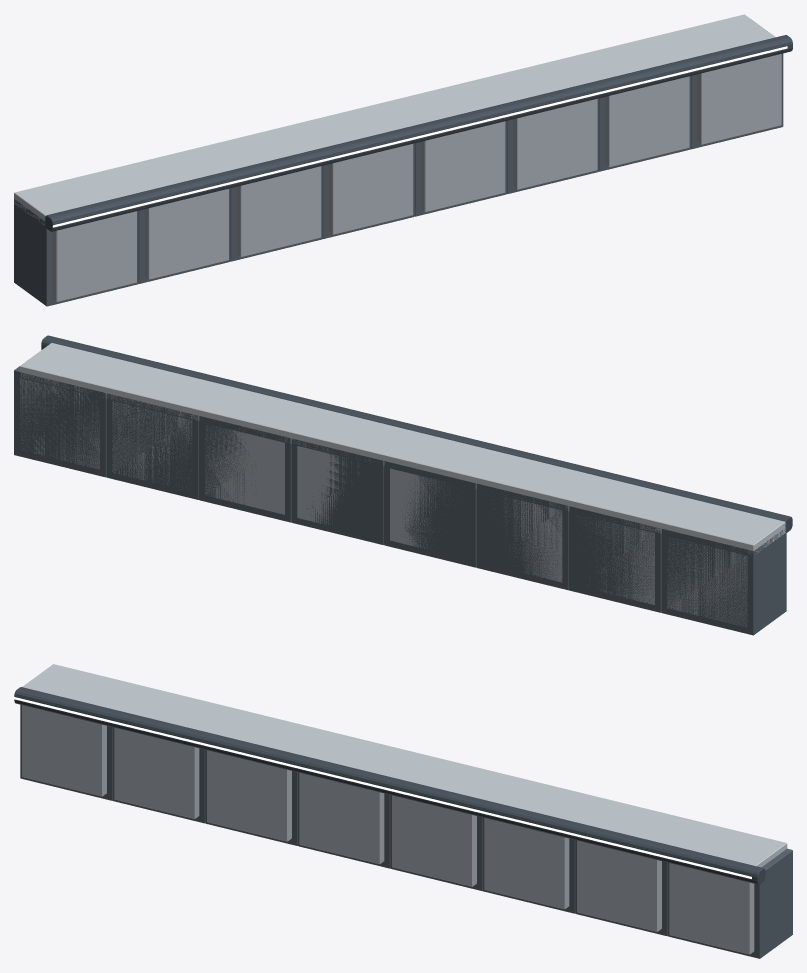
Rendered from Terrain_TopRun8R.gltf.
3 renders of one model, top to bottom at view 1: azimuth 30°, elevation 25°; view 2: azimuth 150°, elevation 25°; view 3: azimuth 330°, elevation 25°, orthographic.
Visible parts, largest first — view 1: Terrain_TopRun8R_baked; view 2: Terrain_TopRun8R_baked; view 3: Terrain_TopRun8R_baked.
Boxes of the visible parts, x1,y1,x2,y2 form: Terrain_TopRun8R_baked: (14,14,792,306); Terrain_TopRun8R_baked: (14,335,792,635); Terrain_TopRun8R_baked: (14,664,792,958).
Size of the model in its own units: 8.04 by 0.9495 by 0.74.
